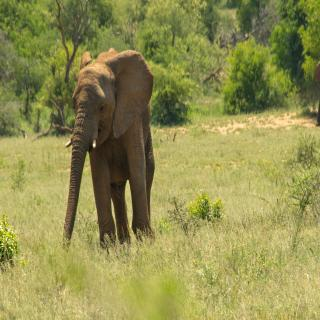Elephant: (61, 44, 161, 246)
